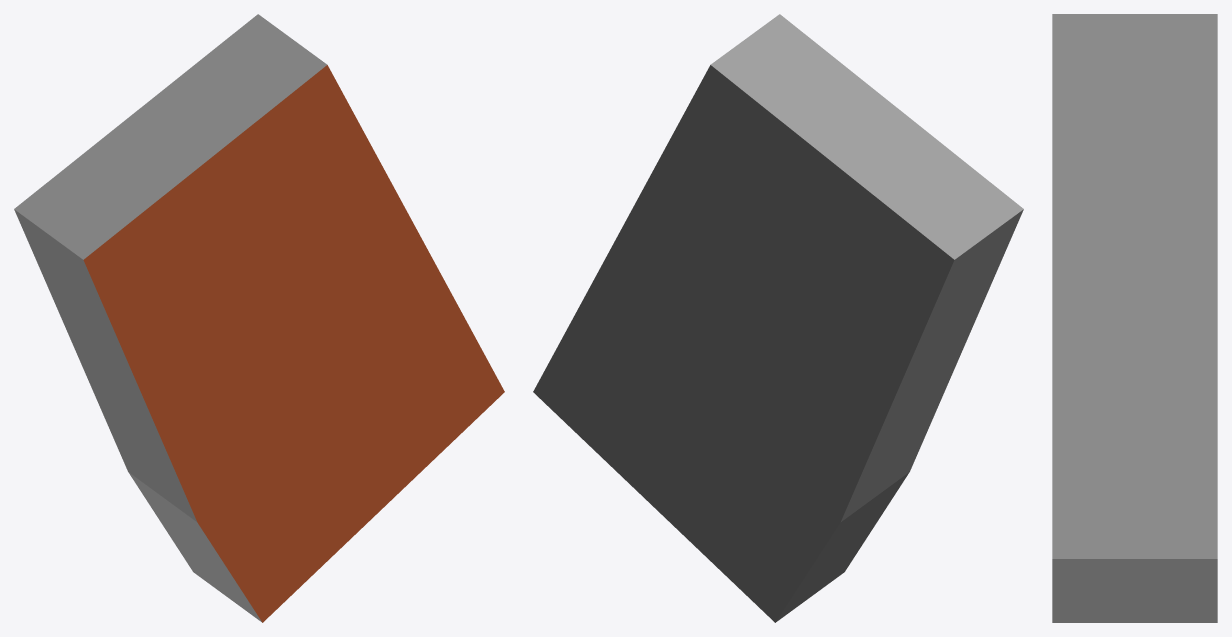
The model's file is construction_4893_assumed_A_Casa_h6m.obj.
3 views of the same model, side by side, from view 1: azimuth 30°, elevation 25°; view 2: azimuth 150°, elevation 25°; view 3: azimuth 270°, elevation 25° (orthographic). The views are drawn at different scales.
Visible parts, largest first — view 1: construction_4893_assumed_A_Casa; view 2: construction_4893_assumed_A_Casa; view 3: construction_4893_assumed_A_Casa.
Part boxes in pixels (x1=…): construction_4893_assumed_A_Casa: x1=14, y1=14, x2=504, y2=622; construction_4893_assumed_A_Casa: x1=533, y1=14, x2=1023, y2=622; construction_4893_assumed_A_Casa: x1=1052, y1=14, x2=1217, y2=622.
Size of the model in its own units: 21.05 by 25.88 by 6.
